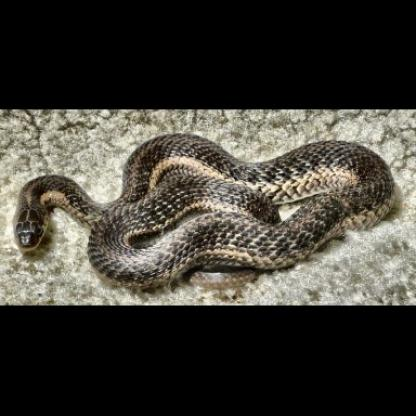Snake: (9, 129, 395, 290)
